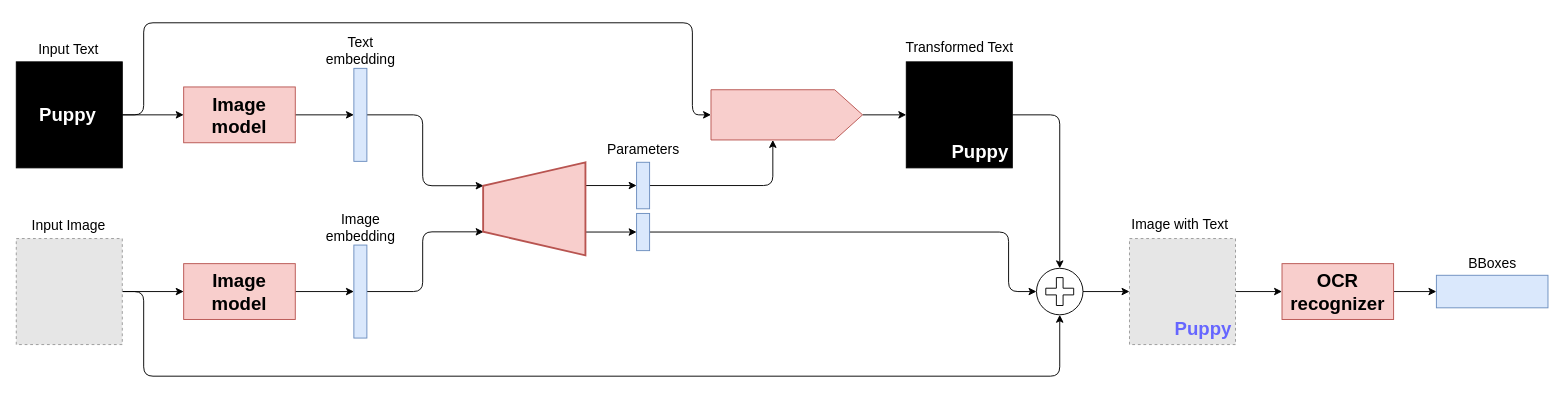
Some shapes in this 1564 by 400 pixel diagram are drawn without their labels. Grey dashed boxes stand in for pictures. Each missing label, with the centre of its shape:
Generator: the point at 534,208
Mover: the point at 786,114
